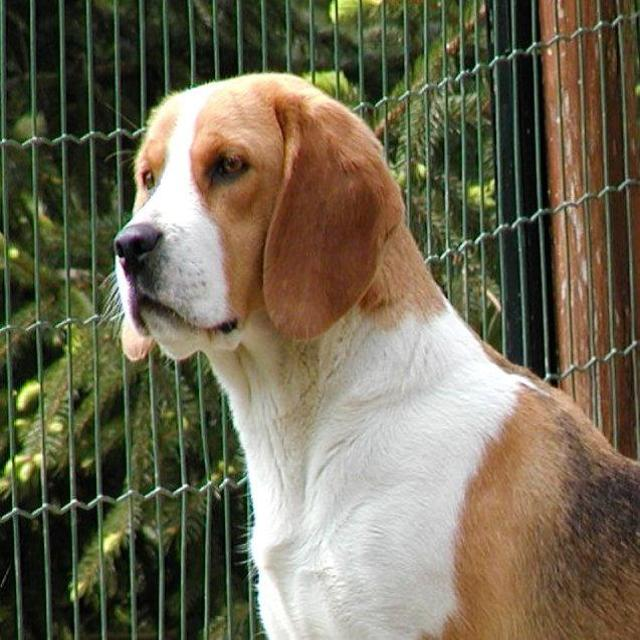beagle: (107, 66, 633, 628)
